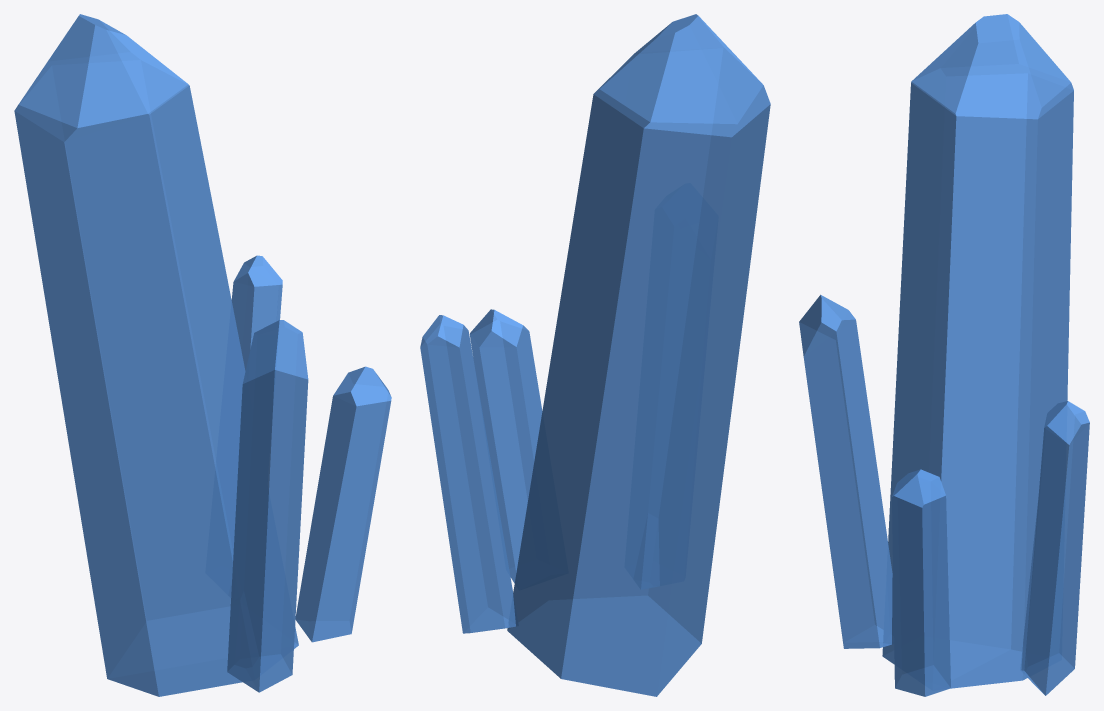
File: Crystals_l_06.fbx
The picture shows the model from 3 angles, left to right: view 1: azimuth 30°, elevation 25°; view 2: azimuth 150°, elevation 25°; view 3: azimuth 270°, elevation 25°; orthographic projection. The views are drawn at different scales.
Parts seen in each view (by area): view 1: Crystals_l_06; view 2: Crystals_l_06; view 3: Crystals_l_06.
Boxes of the visible parts, x1,y1,x2,y2 form: Crystals_l_06: (14,14,391,696); Crystals_l_06: (420,14,770,696); Crystals_l_06: (799,14,1089,696).
Size of the model in its own units: 1.46 by 2.94 by 1.25.
